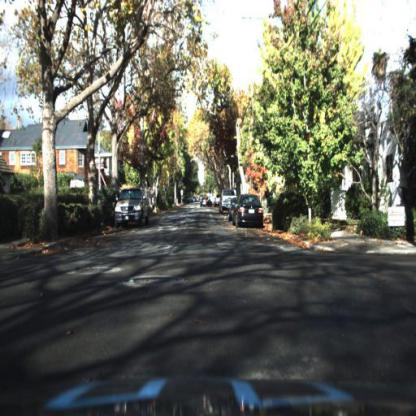car: (112, 187, 149, 224), (232, 194, 263, 227), (221, 192, 233, 215), (202, 193, 214, 208)
